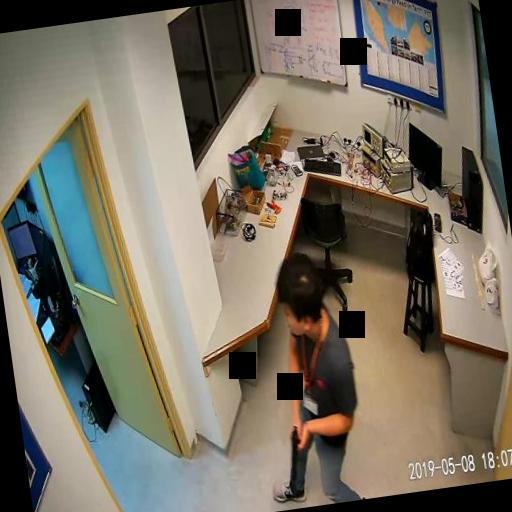Handgun: (284, 424, 305, 482)
